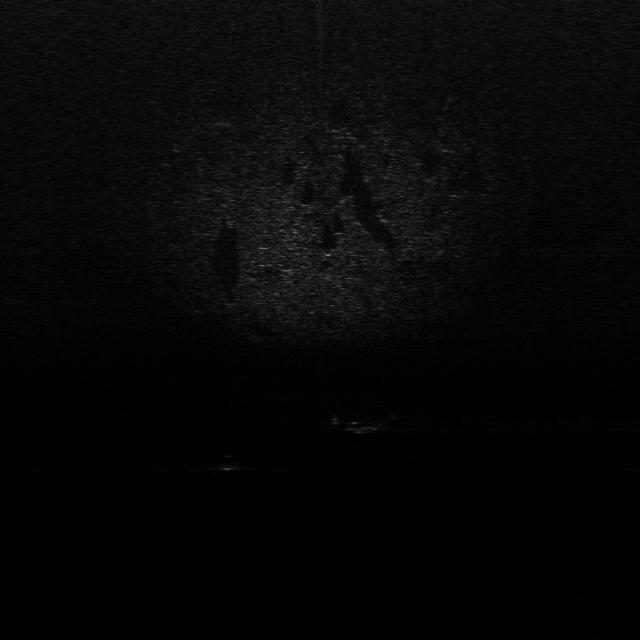ball: (213, 452, 248, 474)
human body: (324, 410, 406, 435)
